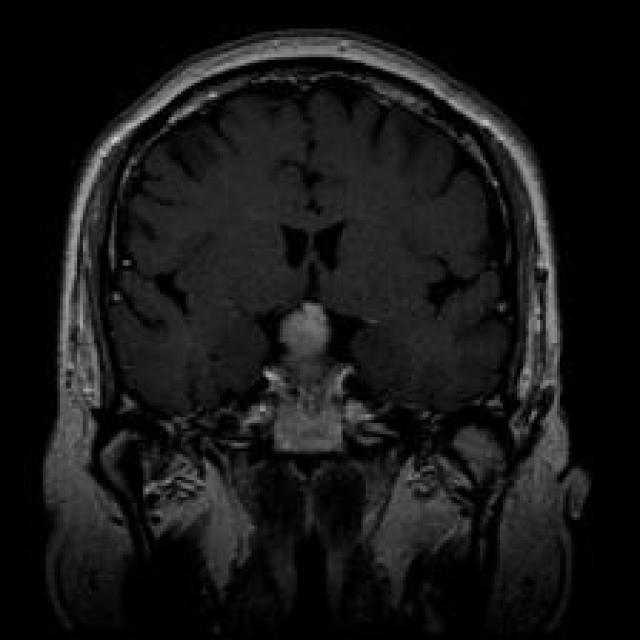pituitary_tumor: (237, 296, 387, 468)
